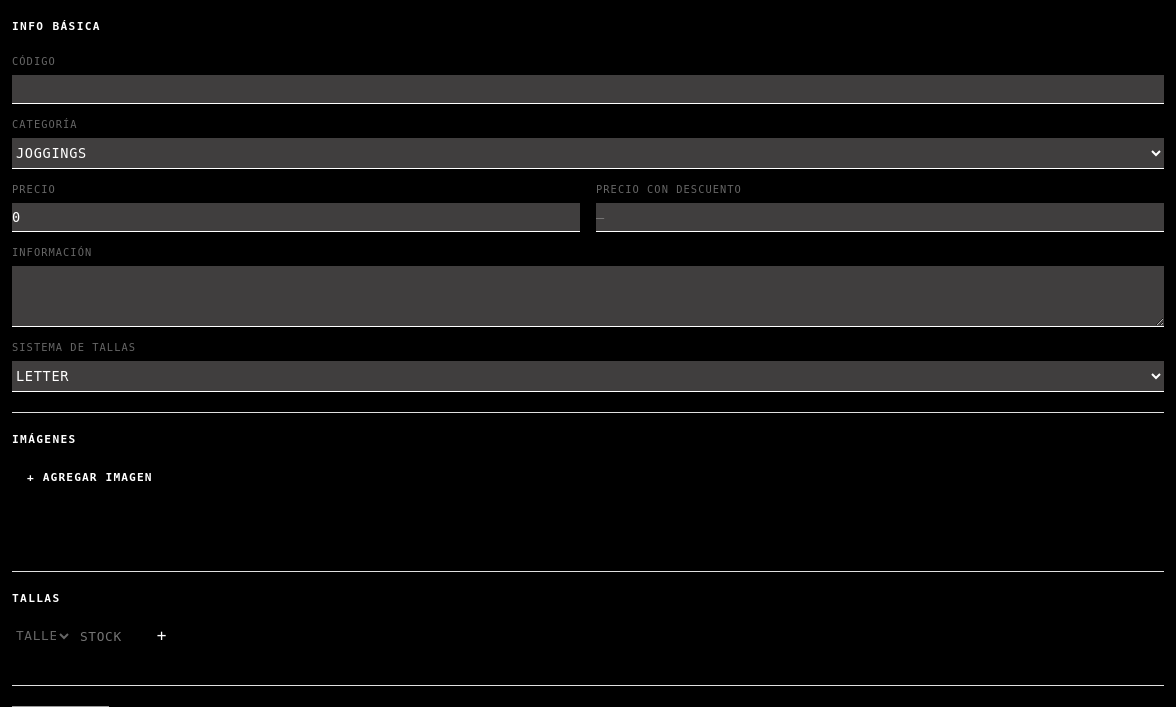
Test: ProductForm › agrega talla al hacer click en + con datos
Select "M" in the dropdown with test id "new-size-letter" at coordinates (42, 636), box [12,623,72,649]
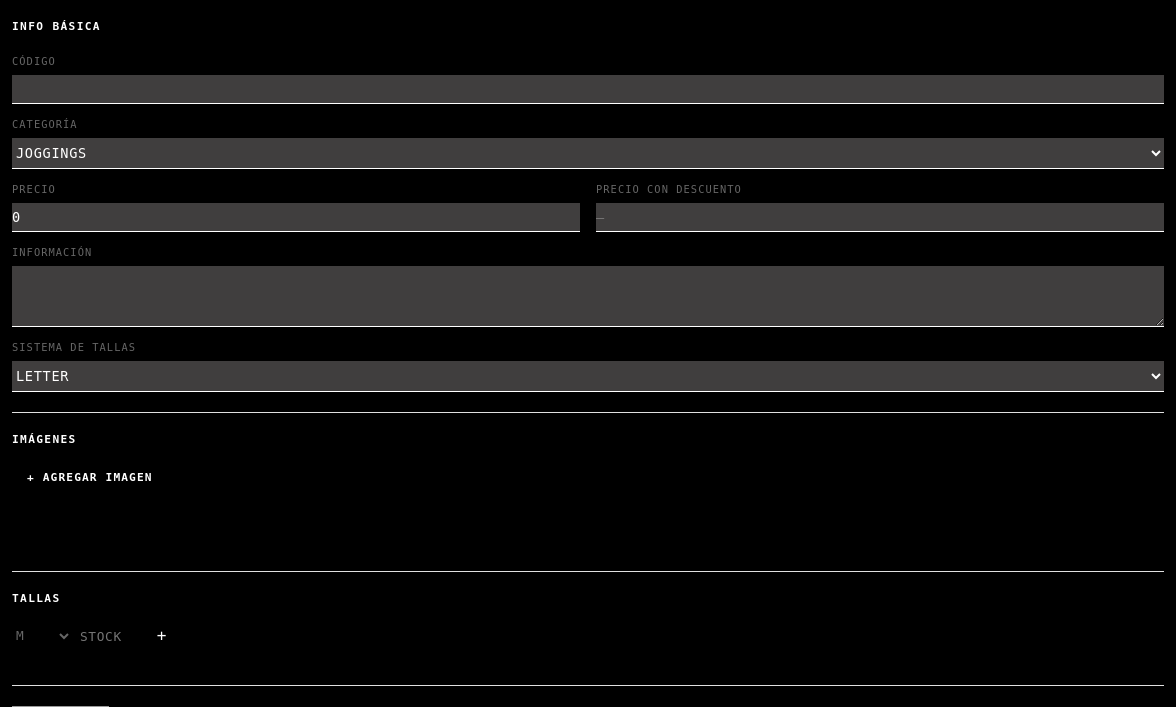
Type "5" into the number field with test id "new-size-stock" at coordinates (110, 637), box [80,625,140,649]
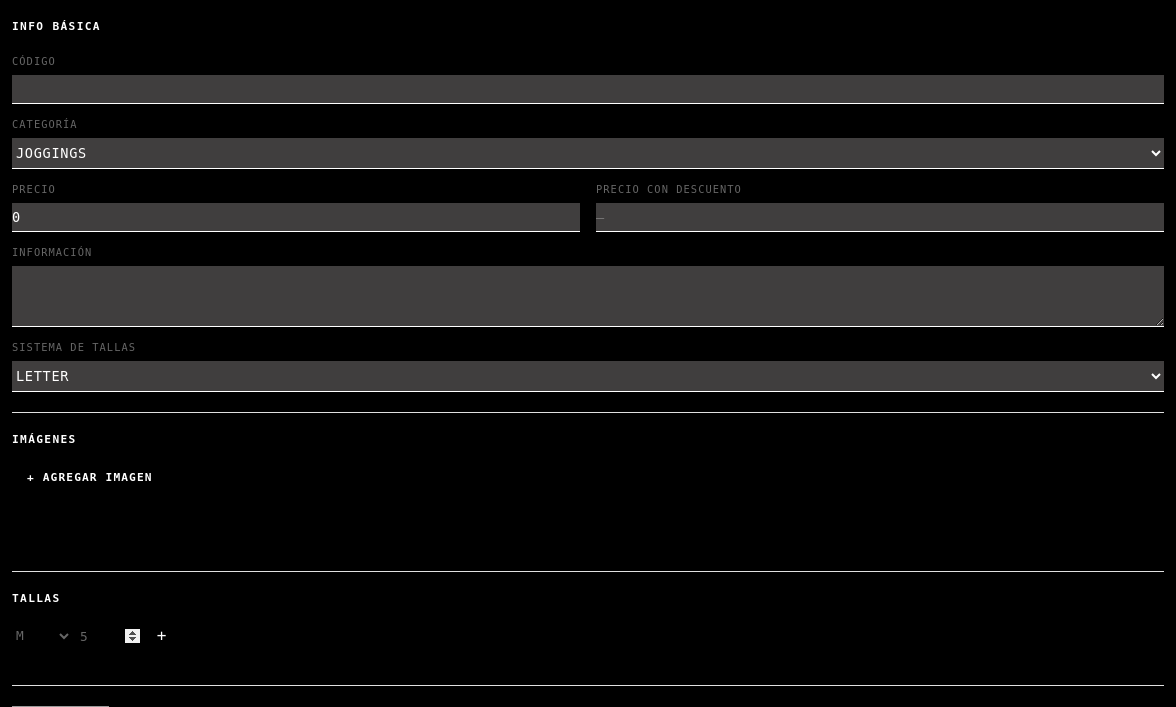
Click the button with test id "add-size-btn" at coordinates (162, 635), box [148,621,176,649]
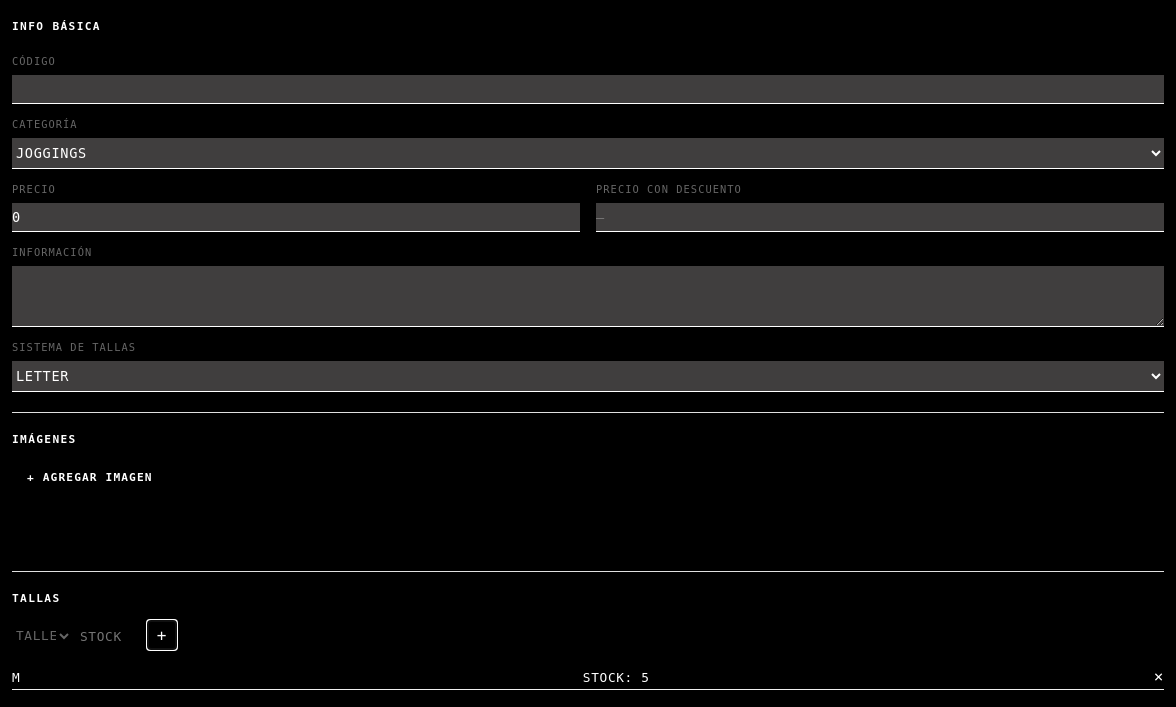
expect the element with test id "size-row-0" is shown: met, box [12,665,1164,690]
